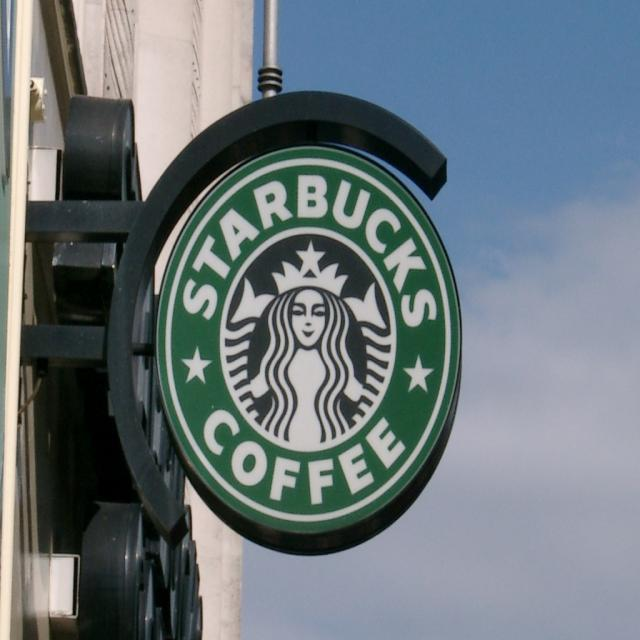starbucks: (154, 144, 462, 543)
